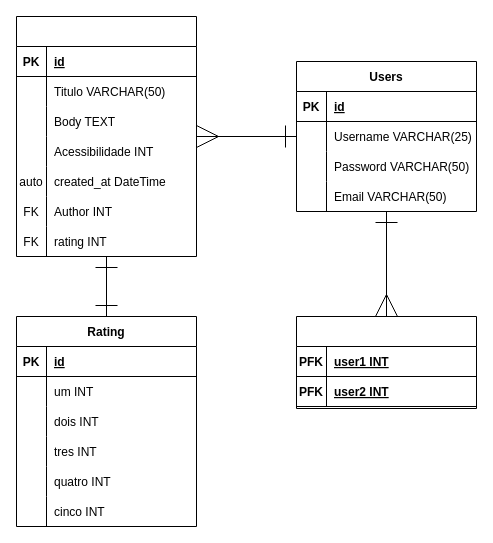
The diagram is 493 pixels wide and 543 high, and some of its shapes have lost their labels. The shapes that lost their labels are listed below. From the top down, each one's box as (x1, y1, x2, y2) in pixels, then its label:
(16, 16, 196, 256): Artigos
(296, 316, 476, 408): Friends
